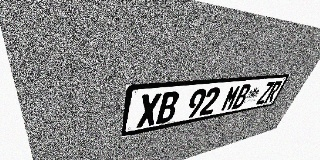2: (199, 87, 222, 116)
9: (185, 88, 208, 119)
B: (156, 91, 180, 124), (231, 84, 252, 110)
M: (220, 85, 242, 112)
R: (264, 81, 283, 103)
X: (136, 93, 162, 128)
Z: (255, 81, 275, 105)
